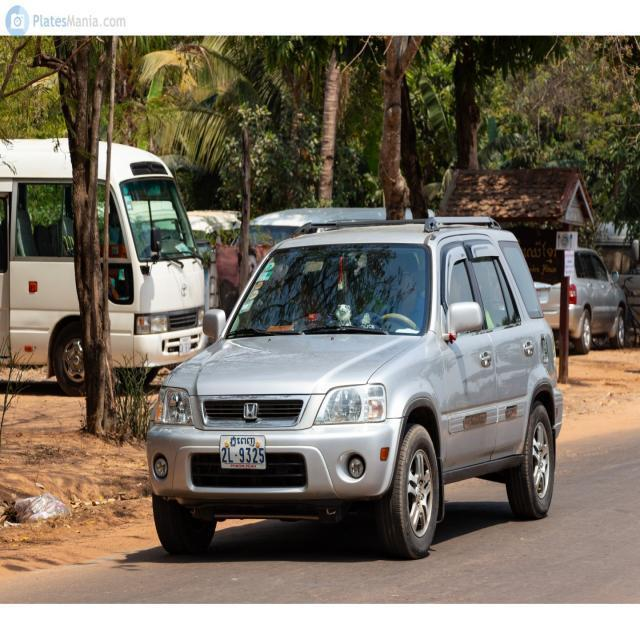Phnom_Penh: (230, 433, 256, 448)
